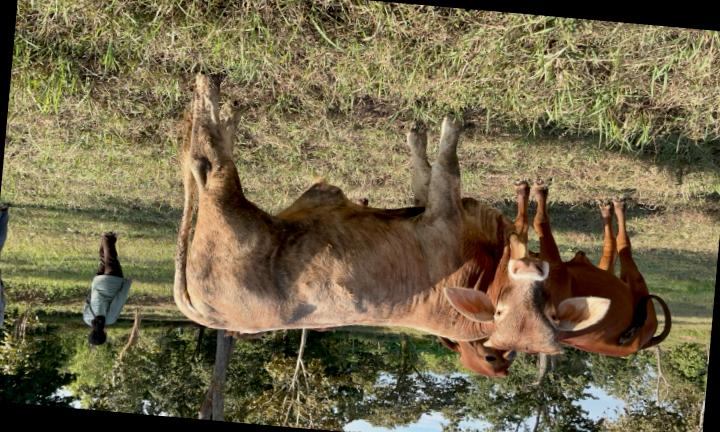Charolais: (175, 74, 610, 353)
